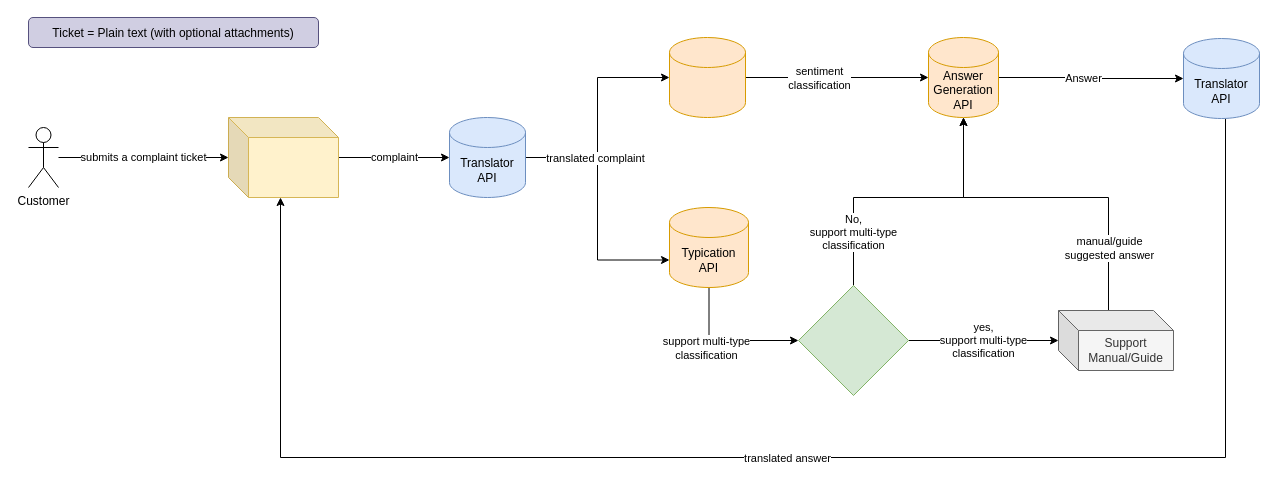
Some shapes in this 1277 by 483 pixel diagram are drawn without their labels. Here are the shapes that lost their labels. From the top down, the centre of each, then its label:
At pixel 707 77: "Sentiment Analysis API".
At pixel 283 157: "Customer Support App".
At pixel 853 340: "Has Support Manual/Guide?".
